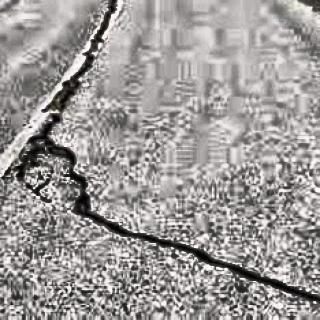crack: (80, 212, 320, 299), (43, 0, 120, 141)
pothole: (19, 131, 93, 218)
